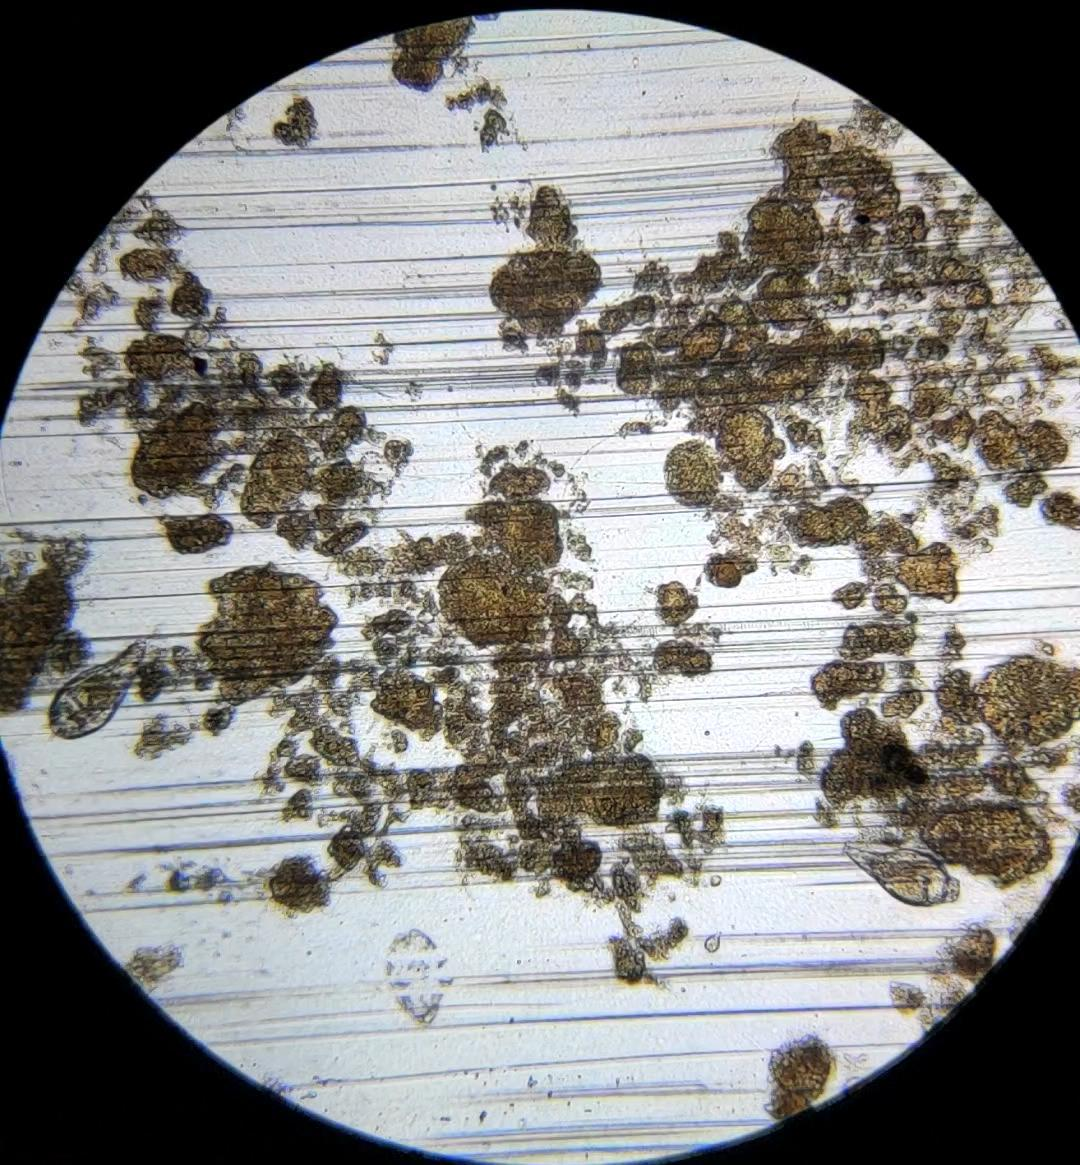Do: (40, 636, 147, 744), (840, 840, 960, 907)
